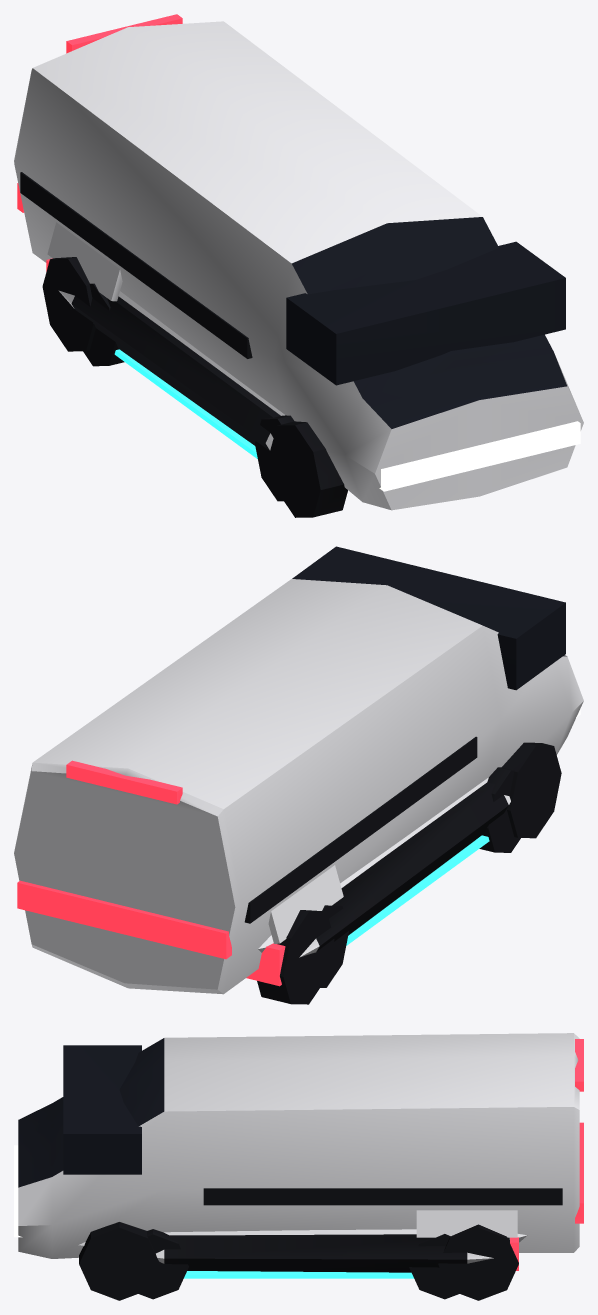
File: traffic.glb
The picture shows the model from 3 angles, top to bottom: view 1: azimuth 30°, elevation 25°; view 2: azimuth 150°, elevation 25°; view 3: azimuth 270°, elevation 25°; orthographic projection. The views are drawn at different scales.
Visible parts, largest first — view 1: CarVan, CarHover, CarSedan; view 2: CarVan, CarHover, CarSedan; view 3: CarVan, CarHover, CarSedan.
Part boxes in pixels (x1,y1,x2,y2): CarVan: (14, 14, 583, 517); CarHover: (46, 222, 280, 459); CarSedan: (83, 283, 294, 501); CarVan: (14, 546, 583, 1004); CarHover: (246, 782, 510, 986); CarSedan: (258, 767, 520, 987); CarVan: (14, 1033, 583, 1300); CarHover: (156, 1210, 518, 1278); CarSedan: (78, 1229, 527, 1299).
Bounding box in the file's own units: 2.02 × 1.95 × 5.08.
Materials: 1 (1 with a texture image).
